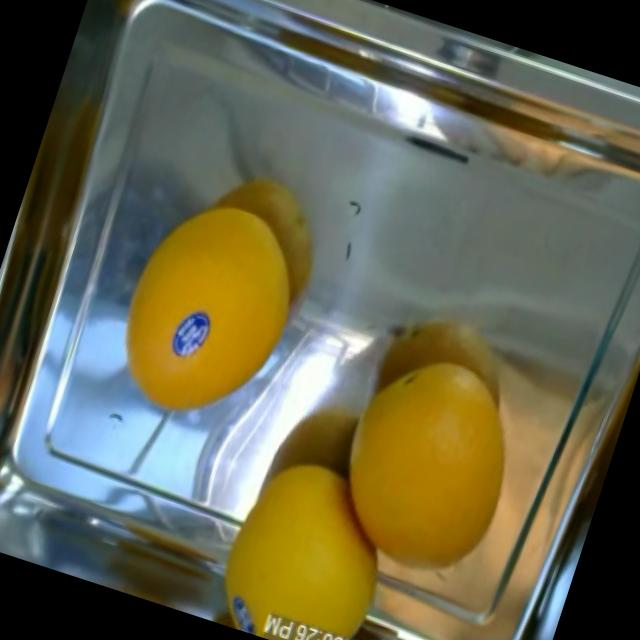Fruit: (205, 407, 450, 640), (160, 296, 222, 374)
